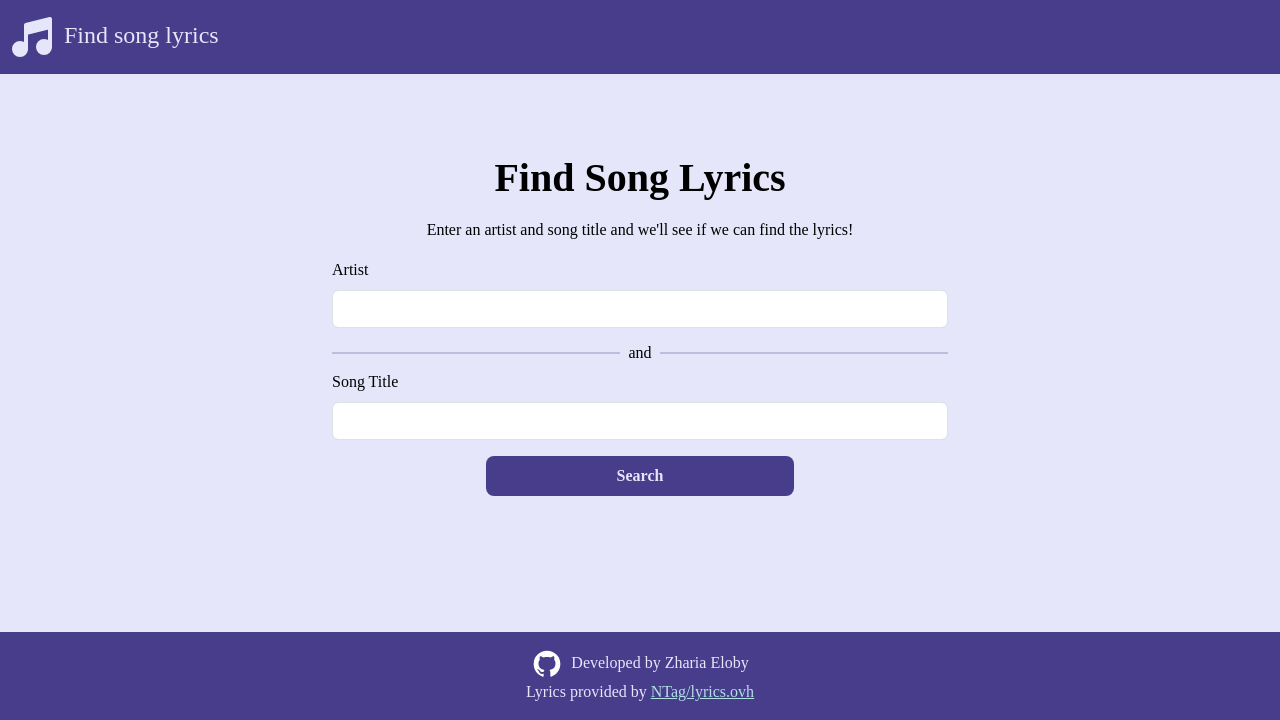
Scenario: Home Page › When user searches for song lyrics › an error message is displayed › when submitting with empty artist input field
The width and height of the screenshot is (1280, 720).
Expected: the element with test id "home-page" is shown, [332,154,948,496]
Type "At Last" into the field with test id "song-title-input-field" at (640, 421), box [332,402,948,440]
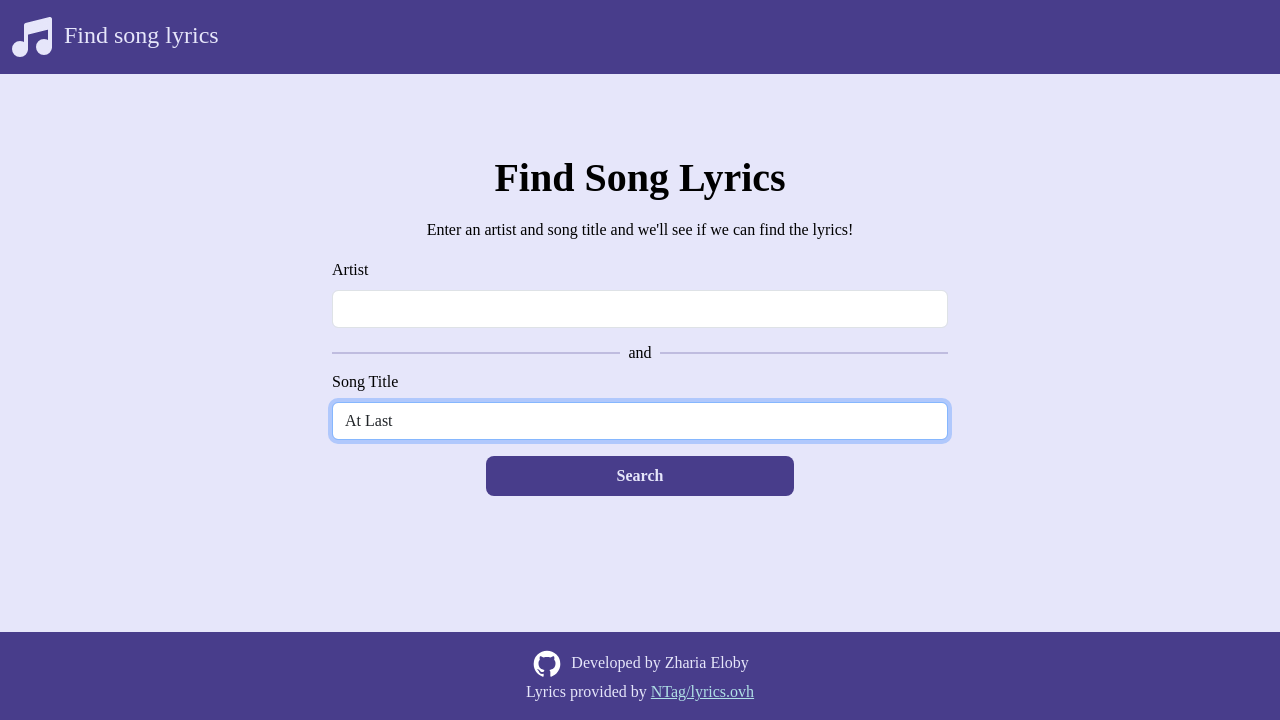
Click the button with test id "submit-button" at (640, 476), box [486,456,794,496]
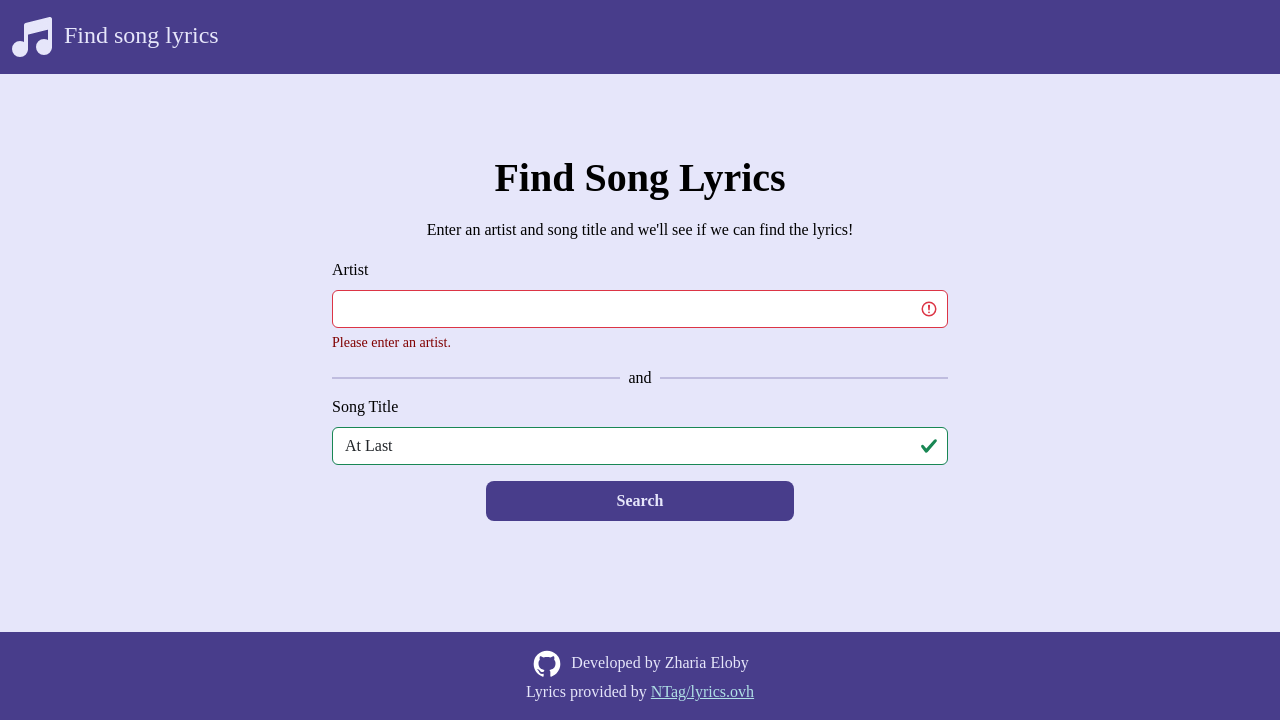
Expected: the text "Please enter an artist." is shown, [332,335,451,350]
